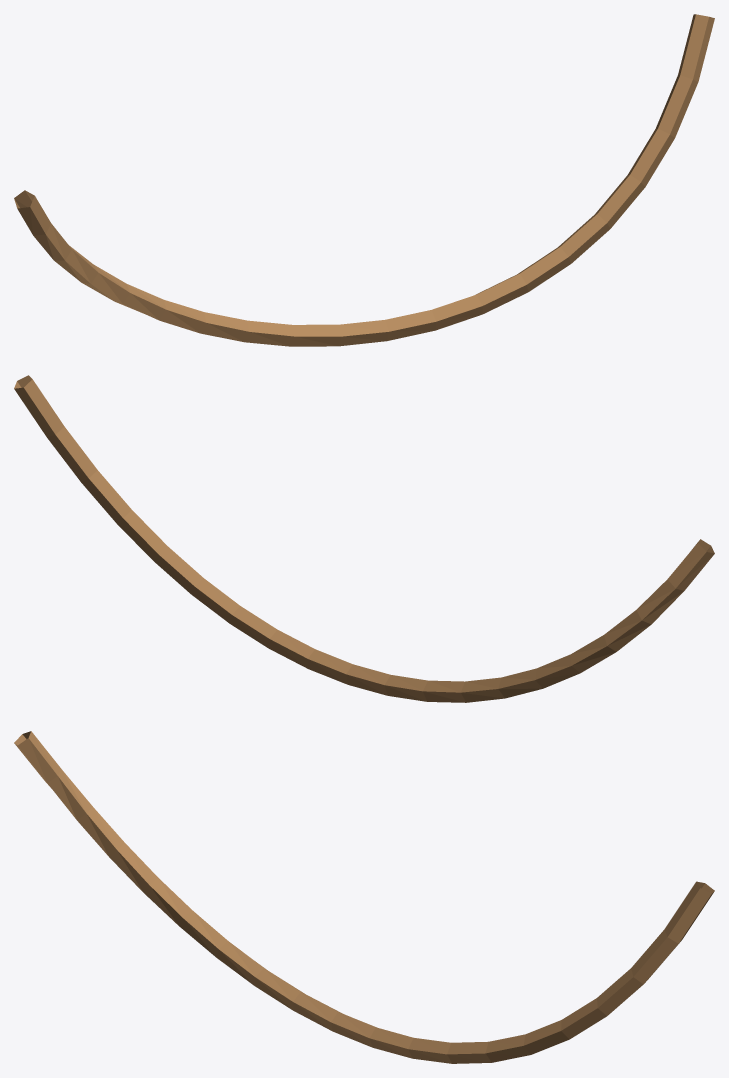
The model's file is String_006.fbx.
3 renders of one model, top to bottom at view 1: azimuth 30°, elevation 25°; view 2: azimuth 150°, elevation 25°; view 3: azimuth 330°, elevation 25°, orthographic. The views are drawn at different scales.
Parts seen in each view (by area): view 1: String_006; view 2: String_006; view 3: String_006.
Boxes of the visible parts, x1,y1,x2,y2 form: String_006: (14,14,714,346); String_006: (14,375,714,702); String_006: (14,731,714,1063).
Bounding box in the file's own units: 1.62 × 0.5251 × 0.1508.
